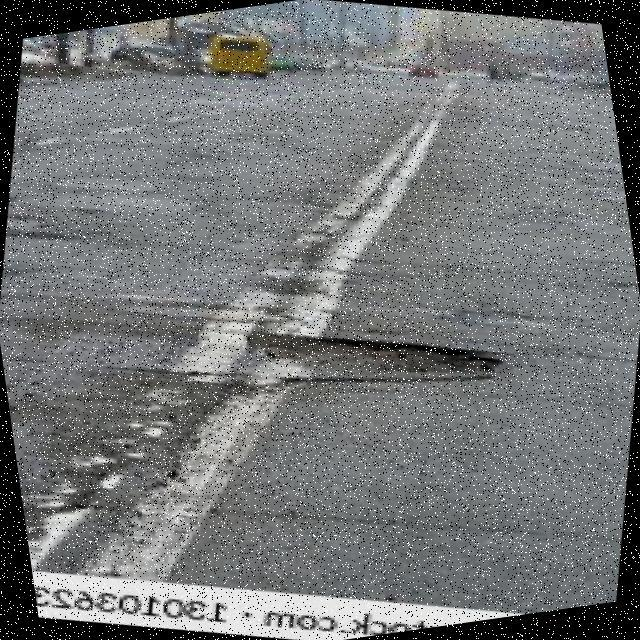Pothole: (251, 334, 504, 385)
